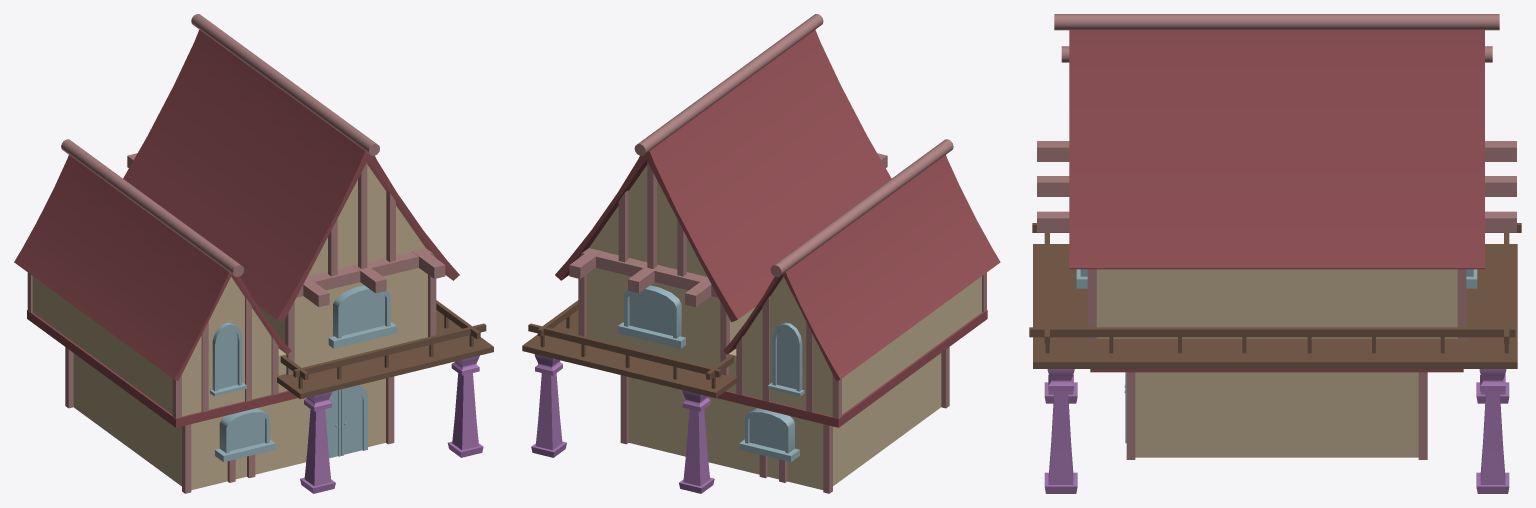
File: TabernaMedieval.fbx
3 renders of one model, left to right at view 1: azimuth 30°, elevation 25°; view 2: azimuth 150°, elevation 25°; view 3: azimuth 270°, elevation 25°, orthographic. The views are drawn at different scales.
Parts seen in each view (by area): view 1: polySurface357, polySurface294, polySurface364, pCube3, polySurface291, polySurface259; view 2: polySurface357, polySurface294, polySurface364, pCube3, polySurface291, polySurface259; view 3: polySurface357, polySurface294, polySurface291, polySurface364, polySurface259, pCube3.
Part boxes in pixels (x1=…): polySurface357: x1=14, y1=30, x2=459, y2=427; polySurface294: x1=32, y1=165, x2=427, y2=490; polySurface364: x1=27, y1=14, x2=445, y2=493; pCube3: x1=210, y1=285, x2=396, y2=462; polySurface291: x1=277, y1=300, x2=493, y2=399; polySurface259: x1=300, y1=355, x2=483, y2=493; polySurface357: x1=555, y1=29, x2=1000, y2=427; polySurface294: x1=586, y1=165, x2=981, y2=489; polySurface364: x1=569, y1=14, x2=986, y2=493; pCube3: x1=618, y1=285, x2=804, y2=461; polySurface291: x1=522, y1=300, x2=737, y2=398; polySurface259: x1=531, y1=354, x2=714, y2=493; polySurface357: x1=1069, y1=30, x2=1484, y2=372; polySurface294: x1=1096, y1=269, x2=1457, y2=457; polySurface291: x1=1029, y1=223, x2=1521, y2=368; polySurface364: x1=1037, y1=14, x2=1516, y2=459; polySurface259: x1=1044, y1=369, x2=1509, y2=493; pCube3: x1=1076, y1=269, x2=1477, y2=443.
Size of the model in its own units: 12.11 by 12.69 by 13.63.
